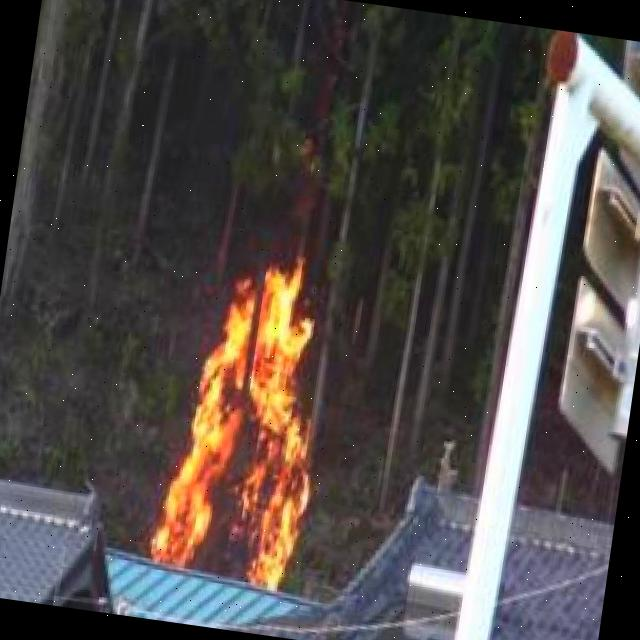fire: (144, 262, 340, 600)
